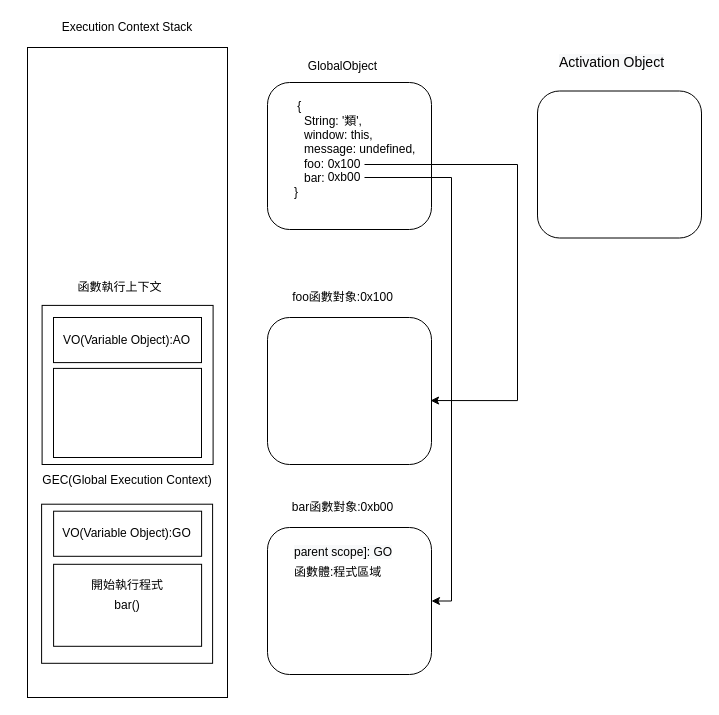
Image size: 719x715. Some labels were removed from this diagram. Each missing label, with the centre of its shape:
[parent scope]: GO 函數體: 程式區域: point 349,390
{ message: "Hello bar" }: point 619,164
